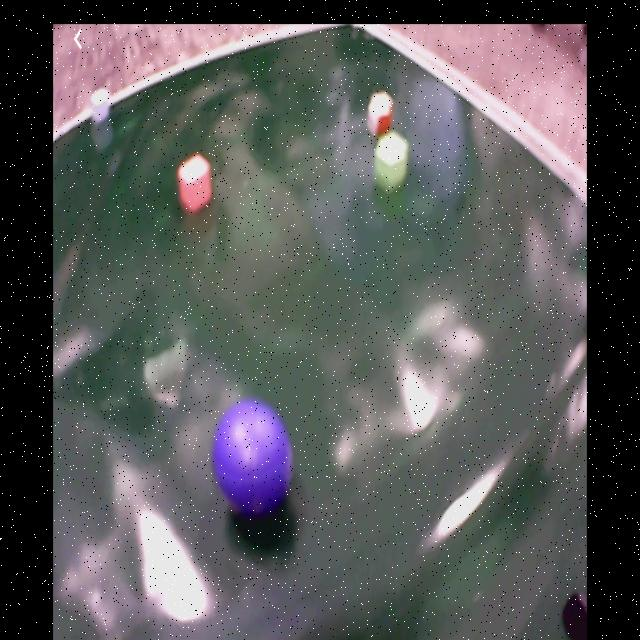ball: (217, 406, 290, 517)
